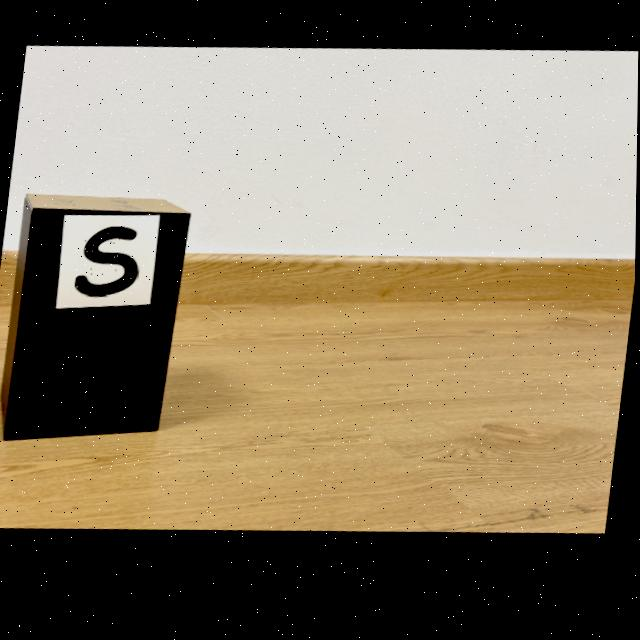S: (75, 229, 139, 298)
